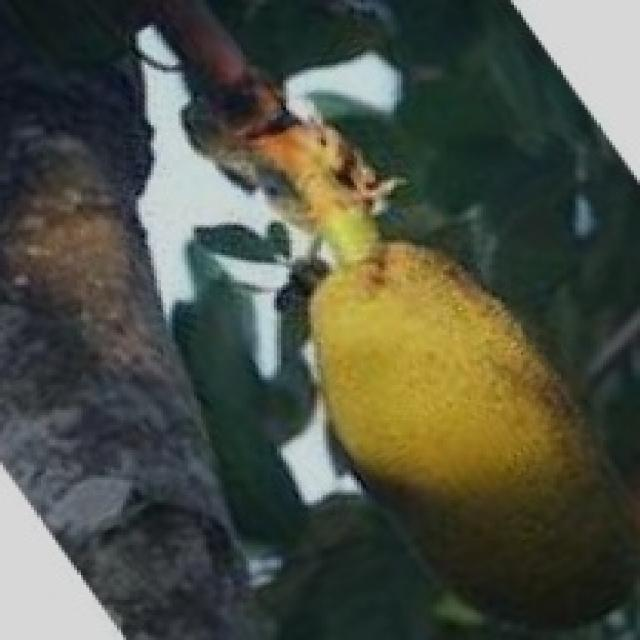Fruit: (255, 210, 640, 585)
